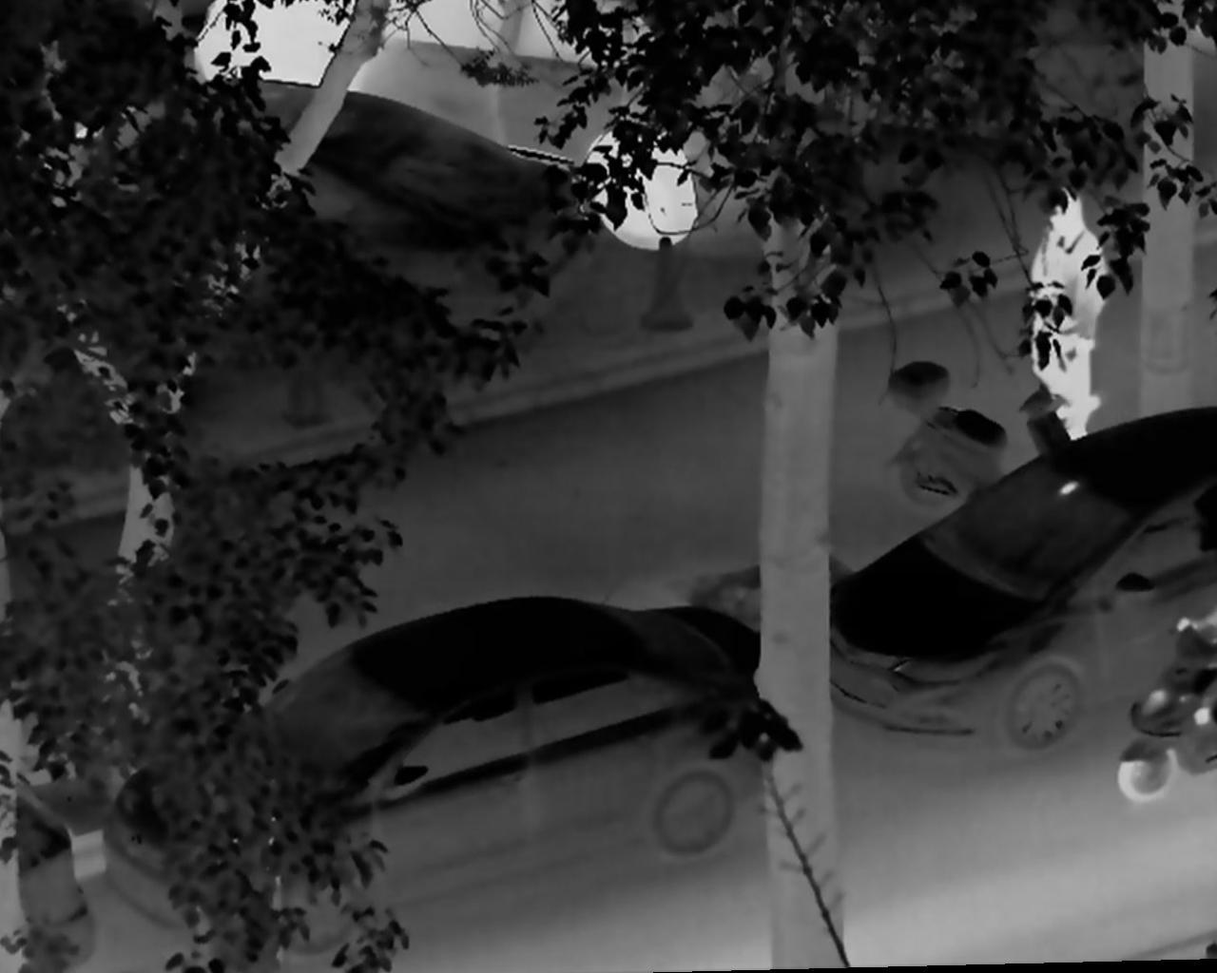person: (1024, 188, 1108, 448), (1024, 216, 1105, 420), (1179, 604, 1217, 649)
